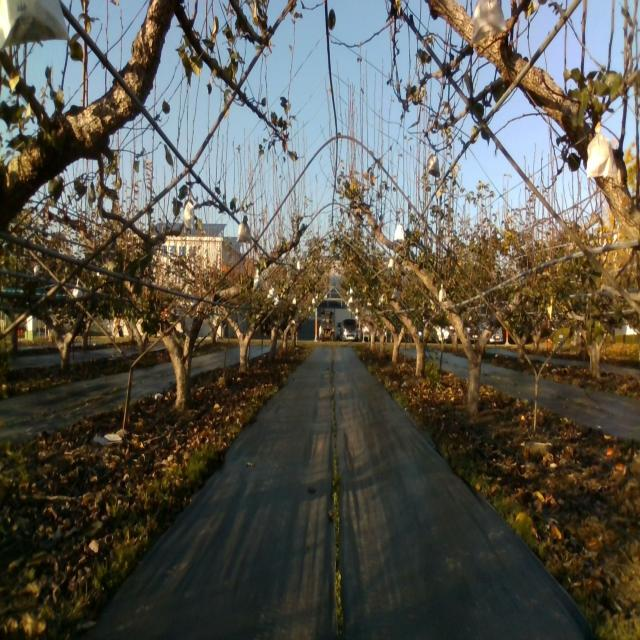pearbags: (585, 120, 616, 181), (472, 0, 507, 43), (236, 220, 251, 243), (427, 154, 440, 178), (184, 202, 194, 228)
